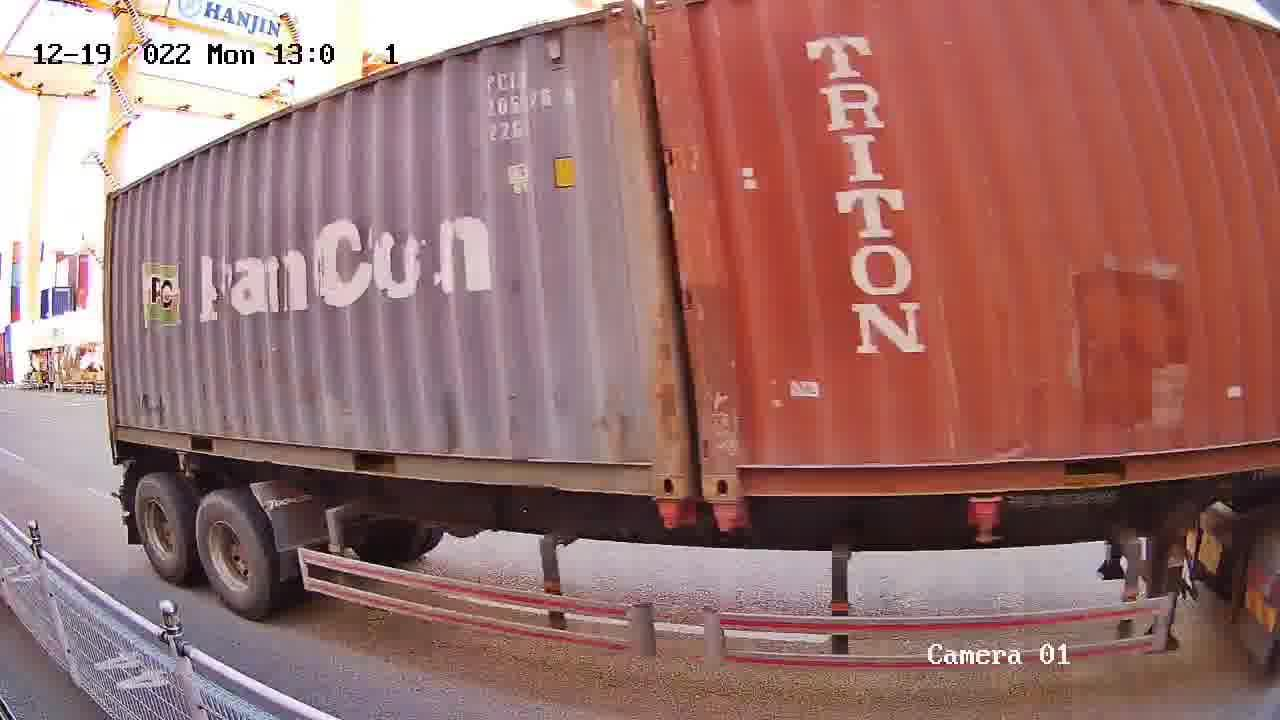Cone: (710, 503, 749, 534), (654, 500, 688, 530)
Hole_L: (699, 443, 780, 500)
Hole_R: (618, 435, 688, 499)
Tire: (196, 499, 267, 612), (136, 481, 183, 573)
